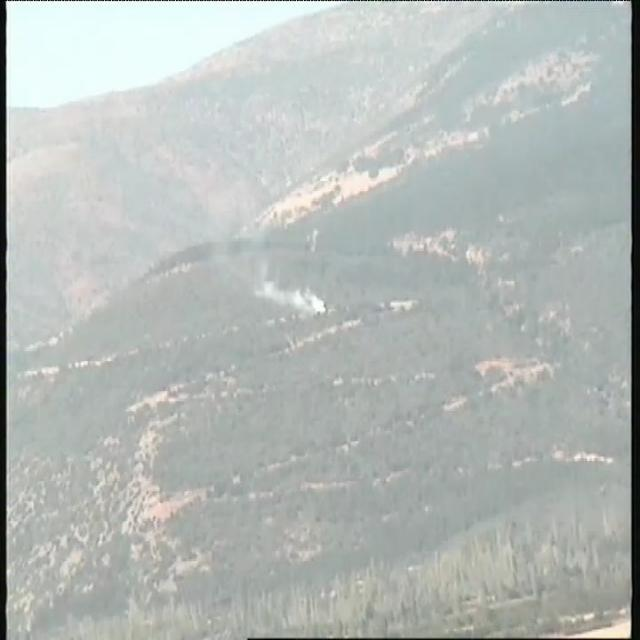smoke: (253, 276, 330, 314)
